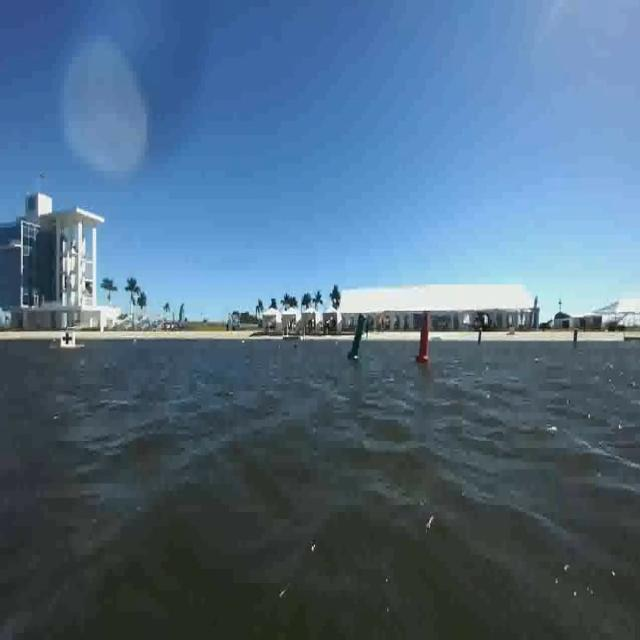green-column-buoy: (348, 314, 367, 361)
red-column-buoy: (416, 312, 433, 364)
